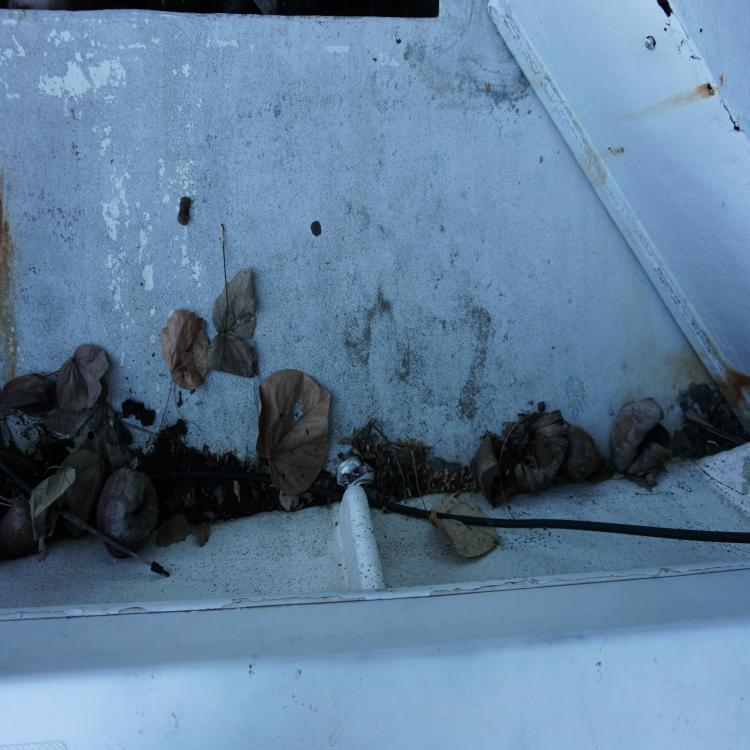Drink can: (337, 456, 375, 488)
